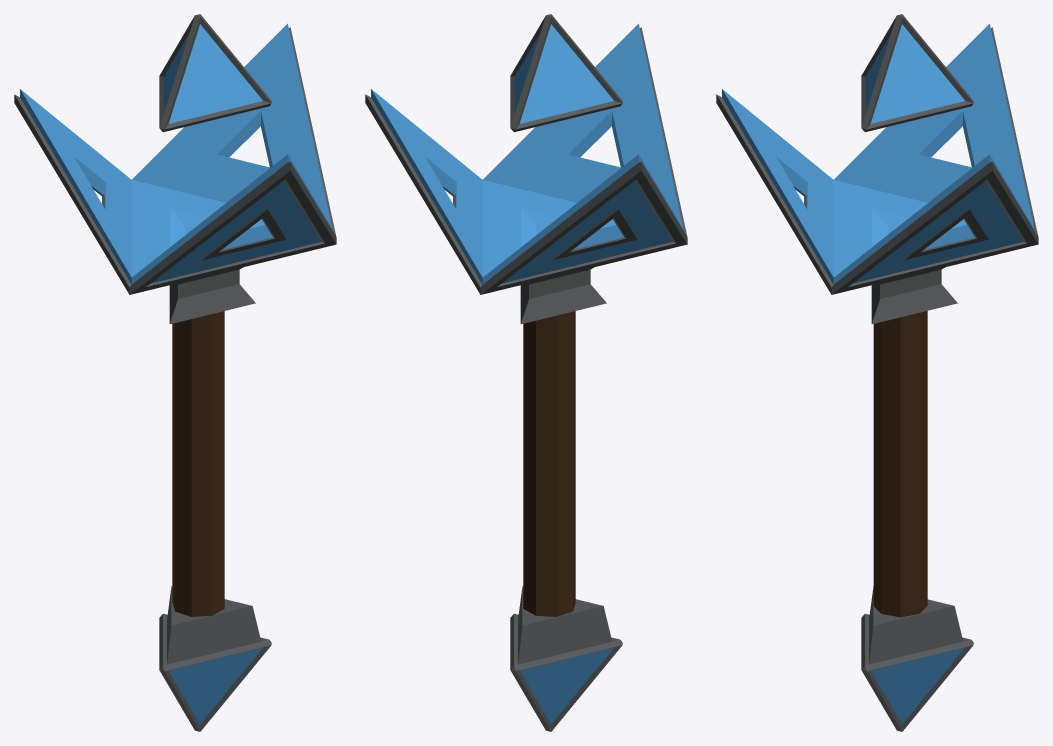
The model's file is Wand_D4.fbx.
3 views of the same model, side by side, from view 1: azimuth 30°, elevation 25°; view 2: azimuth 150°, elevation 25°; view 3: azimuth 270°, elevation 25° (orthographic).
Visible parts, largest first — view 1: Cylinder; view 2: Cylinder; view 3: Cylinder.
Part boxes in pixels (x1,y1,x2,y2): Cylinder: [14, 14, 336, 731]; Cylinder: [365, 14, 687, 731]; Cylinder: [716, 14, 1038, 731].
Bounding box in the file's own units: 61.51 × 152 × 62.13.
